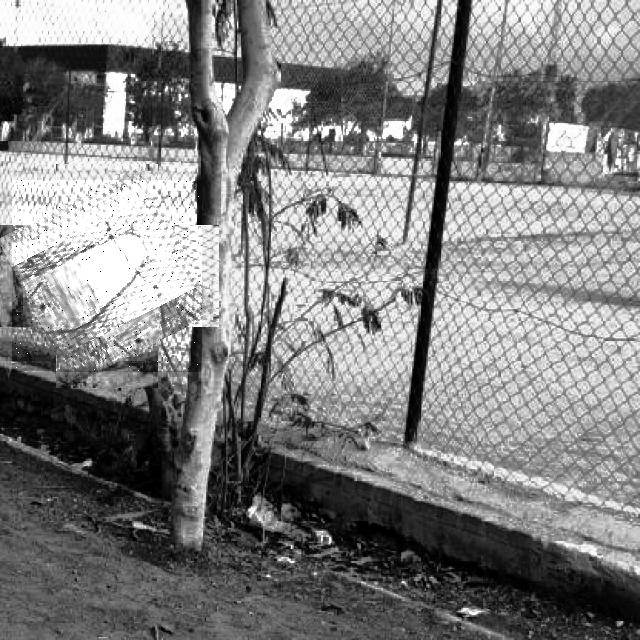anomaly-fence: (12, 180, 202, 372)
